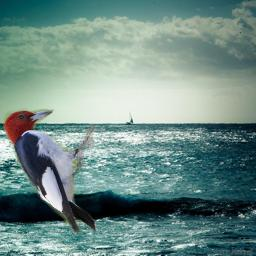Woodpecker: (1, 105, 101, 236)
